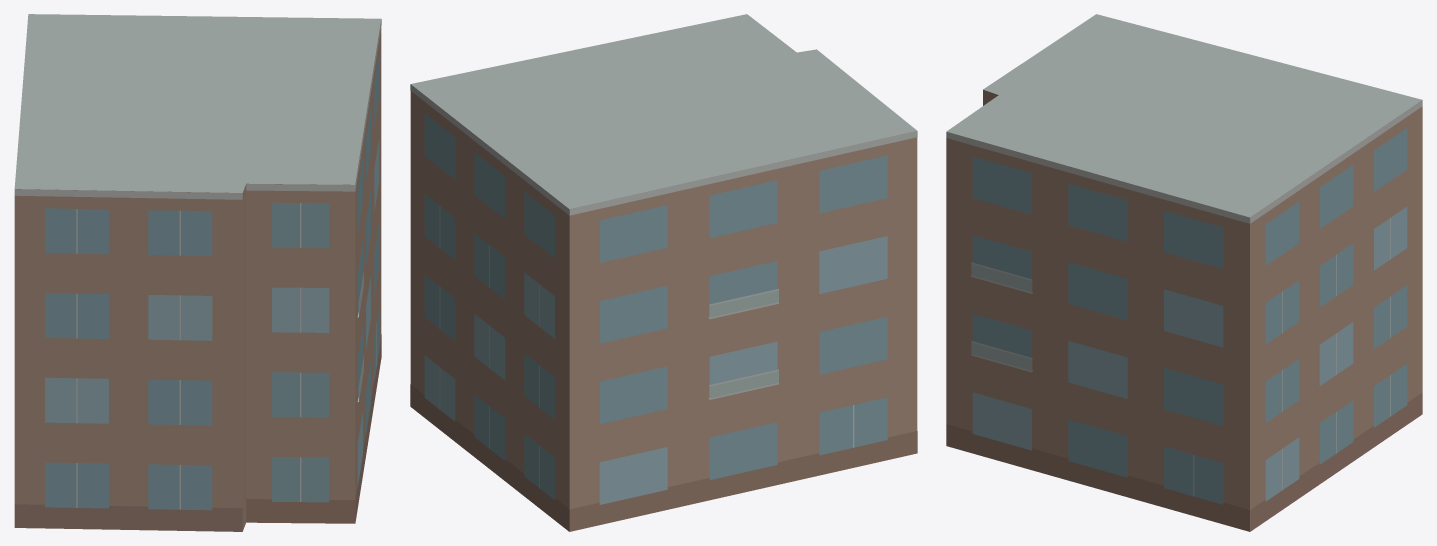
File: survey-upis-32933410.glb
3 views of the same model, side by side, from view 1: azimuth 30°, elevation 25°; view 2: azimuth 150°, elevation 25°; view 3: azimuth 270°, elevation 25° (orthographic). The views are drawn at different scales.
Parts seen in each view (by area): view 1: survey-upis-32933410.tmp; view 2: survey-upis-32933410.tmp; view 3: survey-upis-32933410.tmp.
Part boxes in pixels (x1,y1,x2,y2): survey-upis-32933410.tmp: (14, 14, 381, 531); survey-upis-32933410.tmp: (410, 14, 917, 531); survey-upis-32933410.tmp: (946, 14, 1422, 531).
Bounding box in the file's own units: 16.95 × 12.2 × 16.77.
